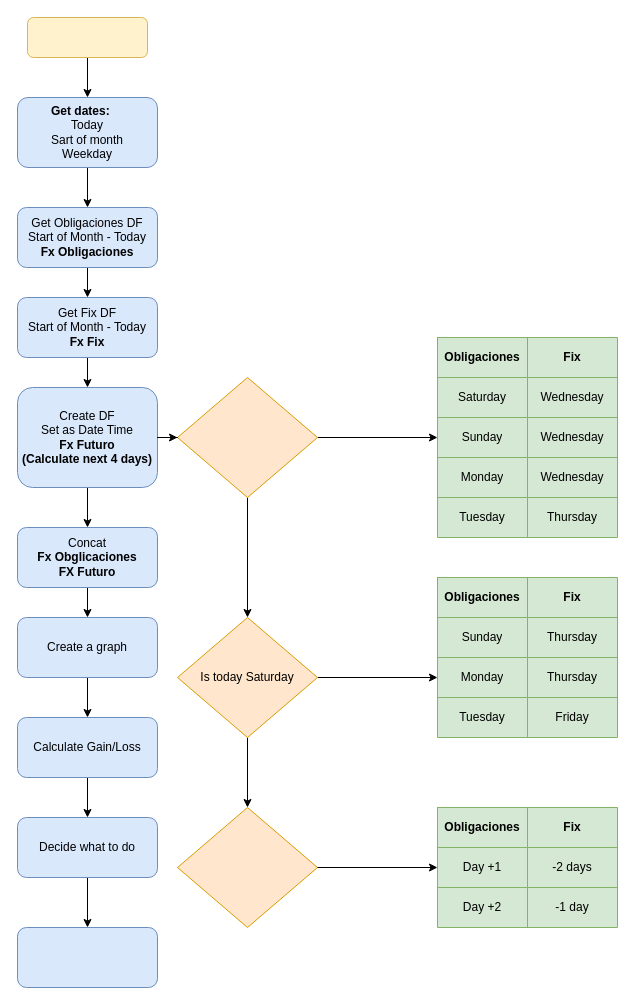
The diagram is 635 pixels wide and 1005 high, and some of its shapes have lost their labels. The centre of each missing label's shape, as x and y in pixels:
Import libraries: point 87,37
Is today Friday: point 247,437
Is today Monday-Friday or Sunday: point 247,867
Send an Email with that info: point 87,957
